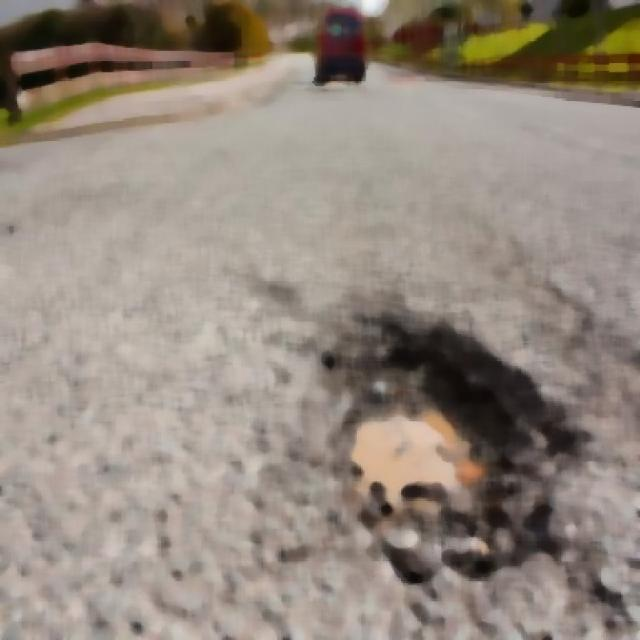Pothole: (332, 360, 470, 558)
